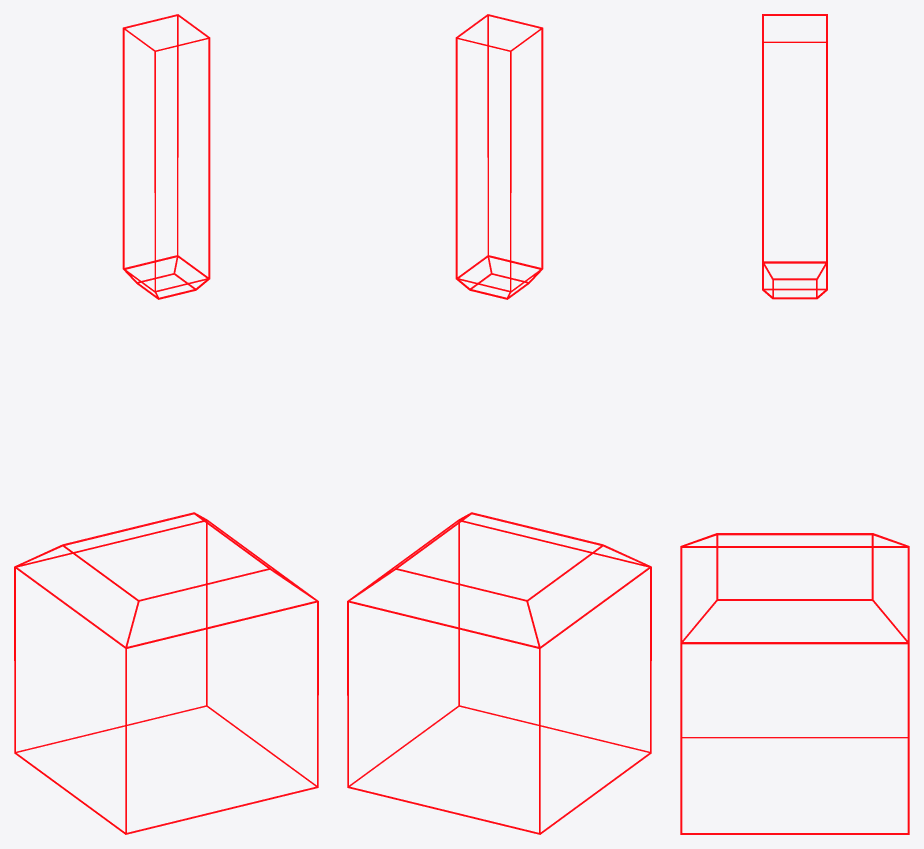
The model's file is top-altar.gltf.
3 views of the same model, side by side, from view 1: azimuth 30°, elevation 25°; view 2: azimuth 150°, elevation 25°; view 3: azimuth 270°, elevation 25° (orthographic). The views are drawn at different scales.
Visible parts, largest first — view 1: altar; view 2: altar; view 3: altar.
Part boxes in pixels (<box>): altar: <box>14,14,318,834</box>; altar: <box>347,14,651,834</box>; altar: <box>680,14,909,834</box>.
Size of the model in its own units: 2.03 by 7.39 by 2.03.
